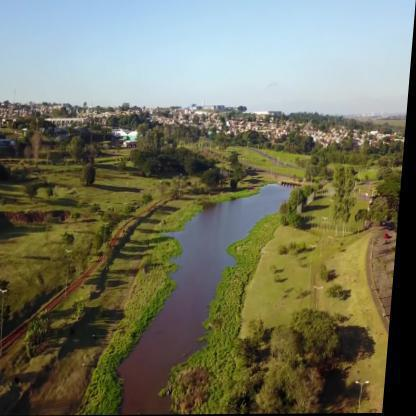agua: (175, 232, 216, 347), (195, 208, 242, 271), (142, 331, 174, 405), (252, 188, 280, 211), (236, 201, 256, 228)
